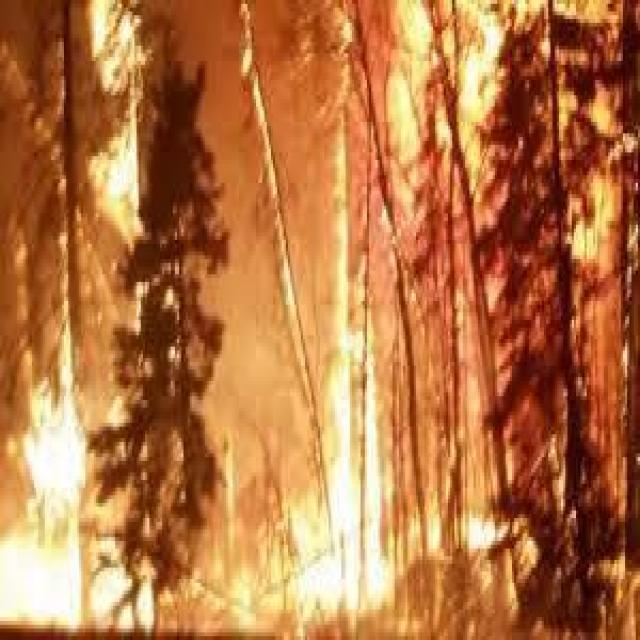fire: (0, 2, 634, 627)
